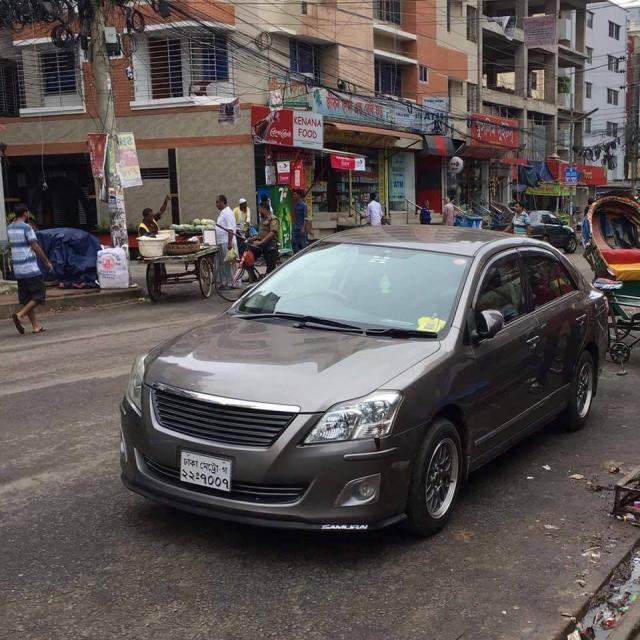numberplate: (178, 449, 234, 492)
